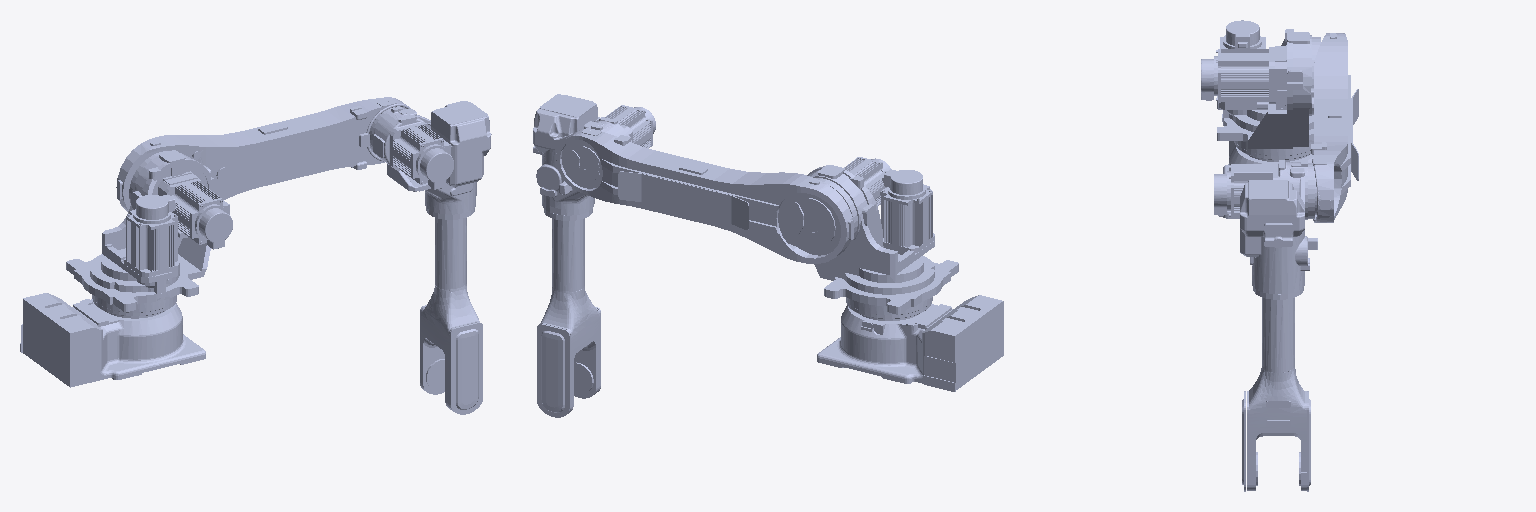
robot.urdf — hh020_ver02:
<?xml version="1.0" encoding="utf-8"?>
<!-- This URDF was automatically created by SolidWorks to URDF Exporter! Originally created by [author] ([email redacted]) 
     Commit Version: 1.6.0-4-g7f85cfe  Build Version: 1.6.7995.38578
     For more information, please see http://wiki.ros.org/sw_urdf_exporter -->
<robot
  name="hh020_ver02">
  <link
    name="base_link">
    <inertial>
      <origin
        xyz="-0.094837 0.00034593 0.080005"
        rpy="0 0 0" />
      <mass
        value="17.103" />
      <inertia
        ixx="0.13544"
        ixy="0.00059306"
        ixz="0.015664"
        iyy="0.31603"
        iyz="3.3743E-05"
        izz="0.37543" />
    </inertial>
    <visual>
      <origin
        xyz="0 0 0"
        rpy="0 0 0" />
      <geometry>
        <mesh
          filename="package://hh020_ver02/meshes/base_link.STL" />
      </geometry>
      <material
        name="">
        <color
          rgba="0.79216 0.81961 0.93333 1" />
      </material>
    </visual>
    <collision>
      <origin
        xyz="0 0 0"
        rpy="0 0 0" />
      <geometry>
        <mesh
          filename="package://hh020_ver02/meshes/base_link.STL" />
      </geometry>
    </collision>
  </link>

  <link
    name="lower_Link">
    <inertial>
      <origin
        xyz="0.072067 -0.0086463 0.18762"
        rpy="0 0 0" />
      <mass
        value="19.865" />
      <inertia
        ixx="0.17864"
        ixy="-0.018812"
        ixz="-0.061412"
        iyy="0.23303"
        iyz="-0.021951"
        izz="0.18982" />
    </inertial>
    <visual>
      <origin
        xyz="0 0 0"
        rpy="0 0 0" />
      <geometry>
        <mesh
          filename="package://hh020_ver02/meshes/lower_Link.STL" />
      </geometry>
      <material
        name="">
        <color
          rgba="0.79216 0.81961 0.93333 1" />
      </material>
    </visual>
    <collision>
      <origin
        xyz="0 0 0"
        rpy="0 0 0" />
      <geometry>
        <mesh
          filename="package://hh020_ver02/meshes/lower_Link.STL" />
      </geometry>
    </collision>
  </link>

  <joint
    name="lower_joint"
    type="revolute">
    <origin
      xyz="0 0 0.162"
      rpy="0 0 0" />
    <parent
      link="base_link" />
    <child
      link="lower_Link" />
    <axis
      xyz="0 0 1" />
    <limit
      lower="-3.229"
      upper="3.229"
      effort="0"
      velocity="3.316" />
  </joint>

  <link
    name="upper_Link">
    <inertial>
      <origin
        xyz="-0.00010751 0.00083686 0.36285"
        rpy="0 0 0" />
      <mass
        value="11.176" />
      <inertia
        ixx="0.62235"
        ixy="5.5619E-06"
        ixz="0.00028138"
        iyy="0.64621"
        iyz="0.010765"
        izz="0.038783" />
    </inertial>
    <visual>
      <origin
        xyz="0 0 0"
        rpy="0 0 0" />
      <geometry>
        <mesh
          filename="package://hh020_ver02/meshes/upper_Link.STL" />
      </geometry>
      <material
        name="">
        <color
          rgba="0.79216 0.81961 0.93333 1" />
      </material>
    </visual>
    <collision>
      <origin
        xyz="0 0 0"
        rpy="0 0 0" />
      <geometry>
        <mesh
          filename="package://hh020_ver02/meshes/upper_Link.STL" />
      </geometry>
    </collision>
  </link>

  <joint
    name="upper_joint"
    type="revolute">
    <origin
      xyz="0.16 0.1479 0.2846"
      rpy="0 1.5708 0" />
    <parent
      link="lower_Link" />
    <child
      link="upper_Link" />
    <axis
      xyz="0 -1 0" />
    <limit
      lower="-1.222"
      upper="3.403"
      effort="0"
      velocity="3.142" />
  </joint>

  <link
    name="arm_Link">
    <inertial>
      <origin
        xyz="0.042152 -0.13965 0.080961"
        rpy="0 0 0" />
      <mass
        value="12.299" />
      <inertia
        ixx="0.077578"
        ixy="0.0039974"
        ixz="-0.014934"
        iyy="0.095659"
        iyz="0.010098"
        izz="0.073131" />
    </inertial>
    <visual>
      <origin
        xyz="0 0 0"
        rpy="0 0 0" />
      <geometry>
        <mesh
          filename="package://hh020_ver02/meshes/arm_Link.STL" />
      </geometry>
      <material
        name="">
        <color
          rgba="0.79216 0.81961 0.93333 1" />
      </material>
    </visual>
    <collision>
      <origin
        xyz="0 0 0"
        rpy="0 0 0" />
      <geometry>
        <mesh
          filename="package://hh020_ver02/meshes/arm_Link.STL" />
      </geometry>
    </collision>
  </link>

  <joint
    name="arm_joint"
    type="revolute">
    <origin
      xyz="0 -0.0164 0.77"
      rpy="0 0 0" />
    <parent
      link="upper_Link" />
    <child
      link="arm_Link" />
    <axis
      xyz="0 -1 0" />
    <limit
      lower="-1.396"
      upper="3.141"
      effort="0"
      velocity="3.316" />
  </joint>

  <link
    name="wrist_R2_Link">
    <inertial>
      <origin
        xyz="0.33419 -0.0048996 9.1409E-05"
        rpy="0 0 0" />
      <mass
        value="6.5587" />
      <inertia
        ixx="0.017572"
        ixy="0.0048652"
        ixz="-5.6686E-05"
        iyy="0.18161"
        iyz="-9.4766E-06"
        izz="0.18844" />
    </inertial>
    <visual>
      <origin
        xyz="0 0 0"
        rpy="0 0 0" />
      <geometry>
        <mesh
          filename="package://hh020_ver02/meshes/wrist_R2_Link.STL" />
      </geometry>
      <material
        name="">
        <color
          rgba="0.79216 0.81961 0.93333 1" />
      </material>
    </visual>
    <collision>
      <origin
        xyz="0 0 0"
        rpy="0 0 0" />
      <geometry>
        <mesh
          filename="package://hh020_ver02/meshes/wrist_R2_Link.STL" />
      </geometry>
    </collision>
  </link>
  <joint
    name="wrist_R2_joint"
    type="revolute">
    <origin
      xyz="0.2135 -0.1315 0.14"
      rpy="0 0 0" />
    <parent
      link="arm_Link" />
    <child
      link="wrist_R2_Link" />
    <axis
      xyz="1 0 0" />
    <limit
      lower="-3.403"
      upper="3.403"
      effort="0"
      velocity="6.632" />
  </joint>
  <link
    name="wrist_B_Link">
    <inertial>
      <origin
        xyz="0.00088677 -0.061435 0.00015943"
        rpy="0 0 0" />
      <mass
        value="2.2391" />
      <inertia
        ixx="0.0040127"
        ixy="-2.7735E-06"
        ixz="-6.8315E-06"
        iyy="0.0049003"
        iyz="-7.8348E-06"
        izz="0.0052929" />
    </inertial>
    <visual>
      <origin
        xyz="0 0 0"
        rpy="0 0 0" />
      <geometry>
        <mesh
          filename="package://hh020_ver02/meshes/wrist_B_Link.STL" />
      </geometry>
      <material
        name="">
        <color
          rgba="0.79216 0.81961 0.93333 1" />
      </material>
    </visual>
    <collision>
      <origin
        xyz="0 0 0"
        rpy="0 0 0" />
      <geometry>
        <mesh
          filename="package://hh020_ver02/meshes/wrist_B_Link.STL" />
      </geometry>
    </collision>
  </link>
  <joint
    name="wrist_B_joint"
    type="revolute">
    <origin
      xyz="0.5865 0.0615 0"
      rpy="0 0 0" />
    <parent
      link="wrist_R2_Link" />
    <child
      link="wrist_B_Link" />
    <axis
      xyz="0 -1 0" />
    <limit
      lower="-2.356"
      upper="2.356"
      effort="0"
      velocity="6.632" />
  </joint>
  <link
    name="wrist_R1_Link">
    <inertial>
      <origin
        xyz="0.063967 -2.7999E-05 -0.06897"
        rpy="0 0 0" />
      <mass
        value="0.78578" />
      <inertia
        ixx="0.00089496"
        ixy="4.8187E-07"
        ixz="0.00016038"
        iyy="0.00099924"
        iyz="2.2945E-06"
        izz="0.0010637" />
    </inertial>
    <visual>
      <origin
        xyz="0 0 0"
        rpy="0 0 0" />
      <geometry>
        <mesh
          filename="package://hh020_ver02/meshes/wrist_R1_Link.STL" />
      </geometry>
      <material
        name="">
        <color
          rgba="0.79216 0.81961 0.93333 1" />
      </material>
    </visual>
    <collision>
      <origin
        xyz="0 0 0"
        rpy="0 0 0" />
      <geometry>
        <mesh
          filename="package://hh020_ver02/meshes/wrist_R1_Link.STL" />
      </geometry>
    </collision>
  </link>
  <joint
    name="wrist_R1_joint"
    type="revolute">
    <origin
      xyz="0.10427 -0.0615 0"
      rpy="0 0 0" />
    <parent
      link="wrist_B_Link" />
    <child
      link="wrist_R1_Link" />
    <axis
      xyz="1 0 0" />
    <limit
      lower="-6.283"
      upper="6.283"
      effort="0"
      velocity="10.472" />
  </joint>
</robot>

--- Render facts (derived) ---
Views: 3 orthographic renders of the robot side by side, from view 1: azimuth 30°, elevation 25°; view 2: azimuth 150°, elevation 25°; view 3: azimuth 270°, elevation 25°.
Robot: hh020_ver02 — 7 links, 6 joints (6 revolute); root link base_link; default pose: every joint at zero.
Visible links, largest first — view 1: lower_Link, upper_Link, base_link, arm_Link, wrist_R2_Link; view 2: upper_Link, lower_Link, base_link, wrist_R2_Link, arm_Link; view 3: lower_Link, arm_Link, wrist_R2_Link, upper_Link, base_link.
Link boxes in pixels (bbox=[...]): lower_Link: bbox=[66, 150, 232, 315]; upper_Link: bbox=[116, 97, 409, 211]; base_link: bbox=[20, 293, 205, 387]; arm_Link: bbox=[369, 101, 491, 214]; wrist_R2_Link: bbox=[420, 208, 482, 414]; upper_Link: bbox=[556, 128, 853, 263]; lower_Link: bbox=[807, 157, 958, 318]; base_link: bbox=[817, 295, 1003, 391]; wrist_R2_Link: bbox=[537, 209, 600, 417]; arm_Link: bbox=[533, 94, 655, 215]; lower_Link: bbox=[1201, 20, 1320, 159]; arm_Link: bbox=[1214, 160, 1317, 293]; wrist_R2_Link: bbox=[1242, 287, 1310, 491]; upper_Link: bbox=[1311, 33, 1358, 222]; base_link: bbox=[1223, 141, 1313, 218].
Size in the robot's own frame: 1.47 by 0.4461 by 0.991 metres.
Meshes: 7 distinct files referenced, 5 mesh visuals loaded (5 binary STL); not drawn: 2 (reference not matched to a file when rendering).